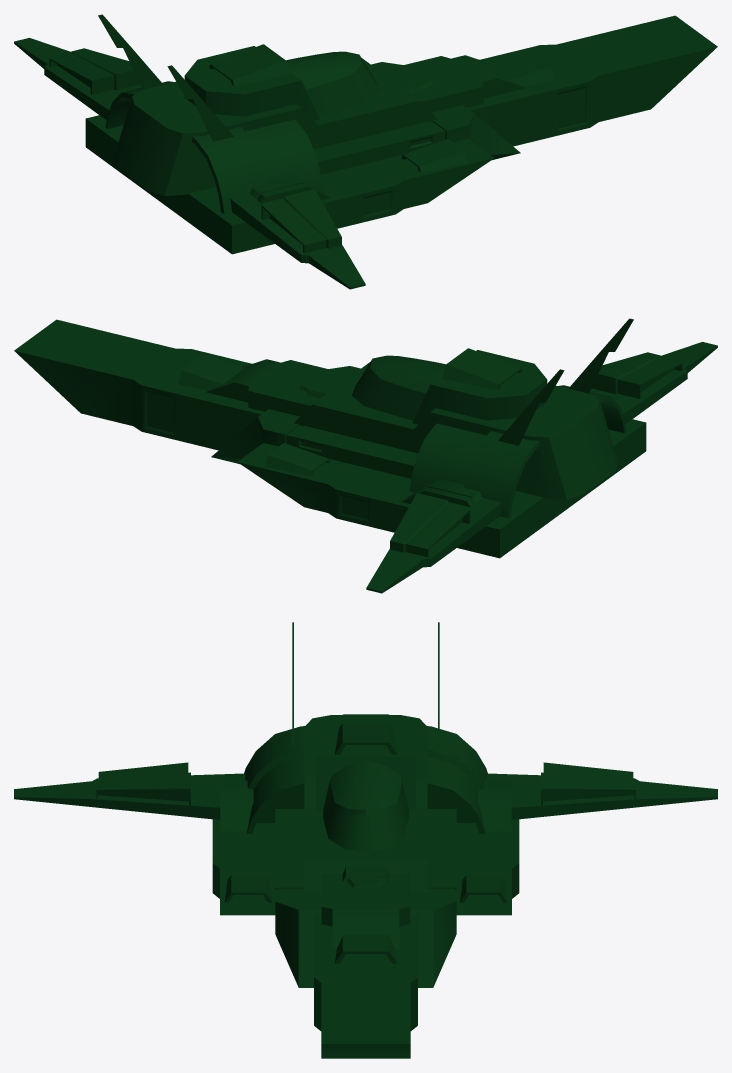
File: PlayerOne.obj
3 renders of one model, top to bottom at view 1: azimuth 30°, elevation 25°; view 2: azimuth 150°, elevation 25°; view 3: azimuth 270°, elevation 25°, orthographic. The views are drawn at different scales.
Visible parts, largest first — view 1: PlayerOne_Player; view 2: PlayerOne_Player; view 3: PlayerOne_Player.
Part boxes in pixels (bbox=[...]): PlayerOne_Player: bbox=[14, 14, 717, 289]; PlayerOne_Player: bbox=[14, 318, 717, 593]; PlayerOne_Player: bbox=[14, 622, 717, 1058].
Size of the model in its own units: 1.02 by 0.3022 by 1.05.
